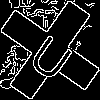U: (25, 25, 82, 84)
